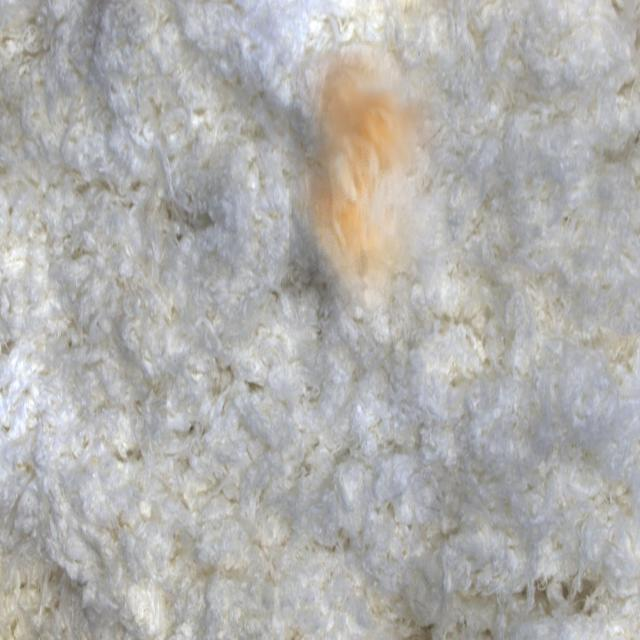dust: (289, 41, 447, 329)
